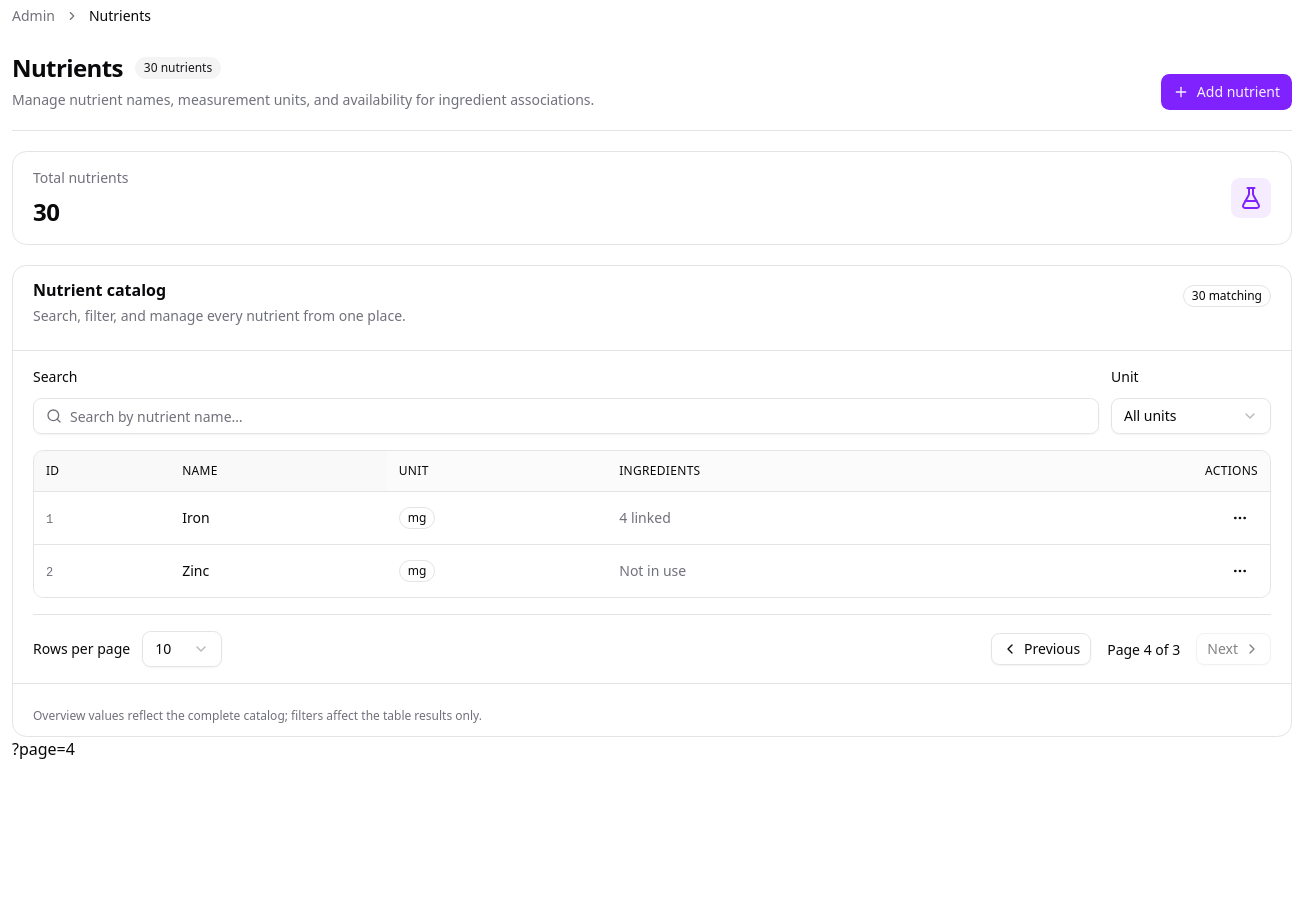
Scenario: NutrientsPage › resets page to one when search changes
Type "iron" into the search field at point(580, 416), box top-left (62, 398), bottom-right (1098, 434)
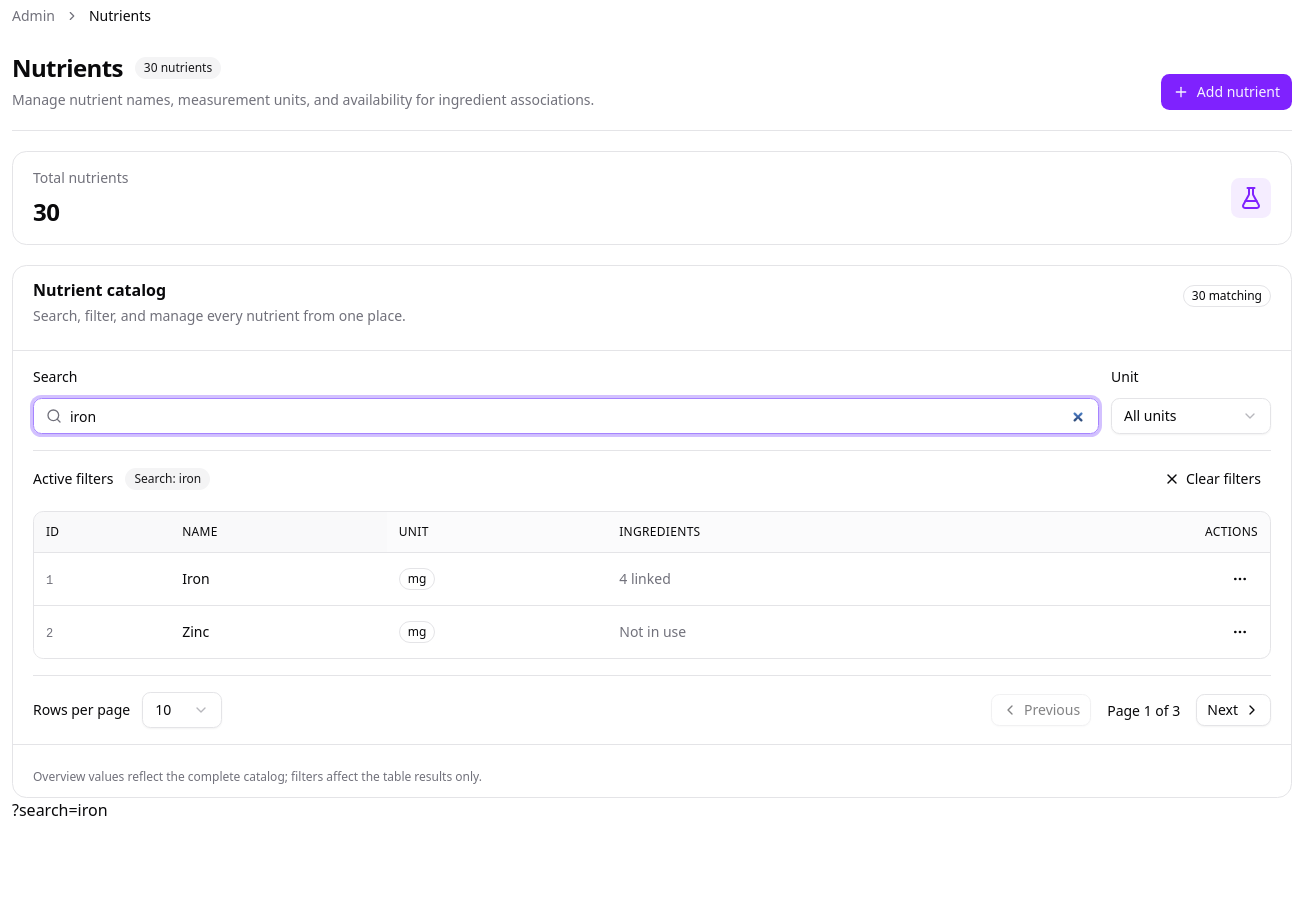
Check: the text with test id "location-search" shows "search=iron", box top-left (12, 799), bottom-right (108, 821)
Check: the text with test id "location-search" no longer shows "page=4", box top-left (12, 799), bottom-right (108, 821)
